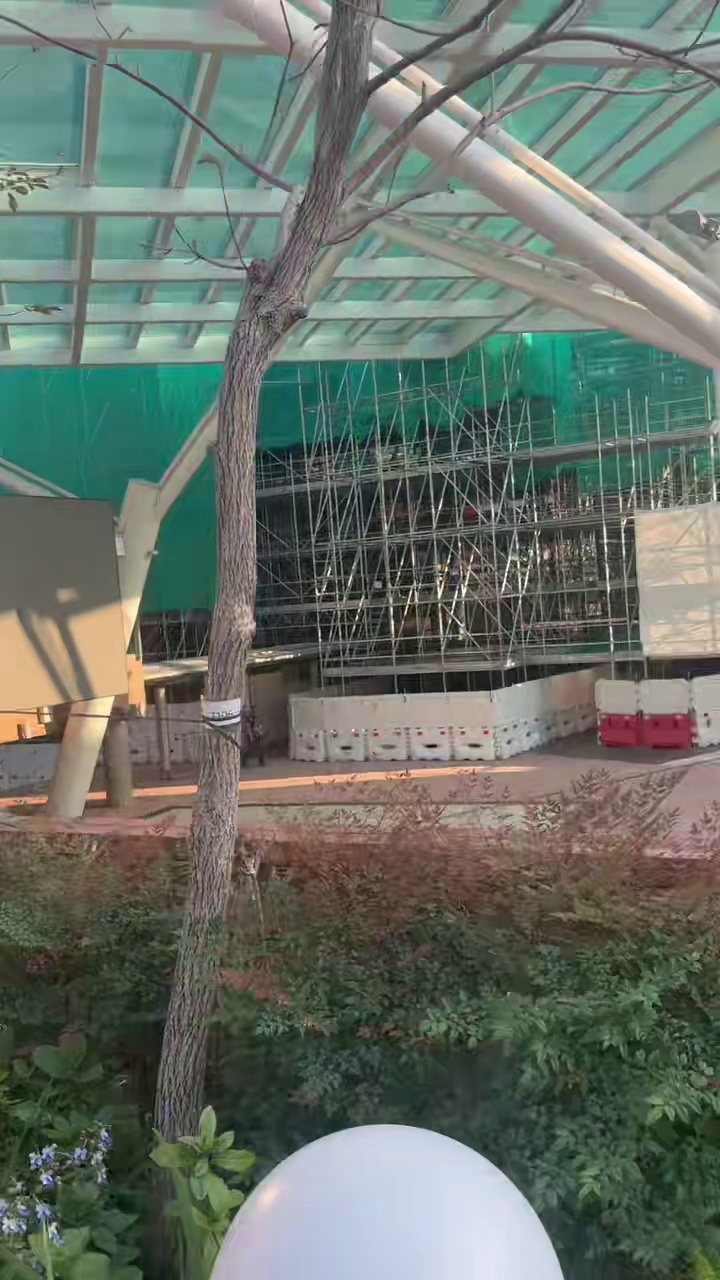Tabebuia chrysantha: (155, 0, 694, 1139)
